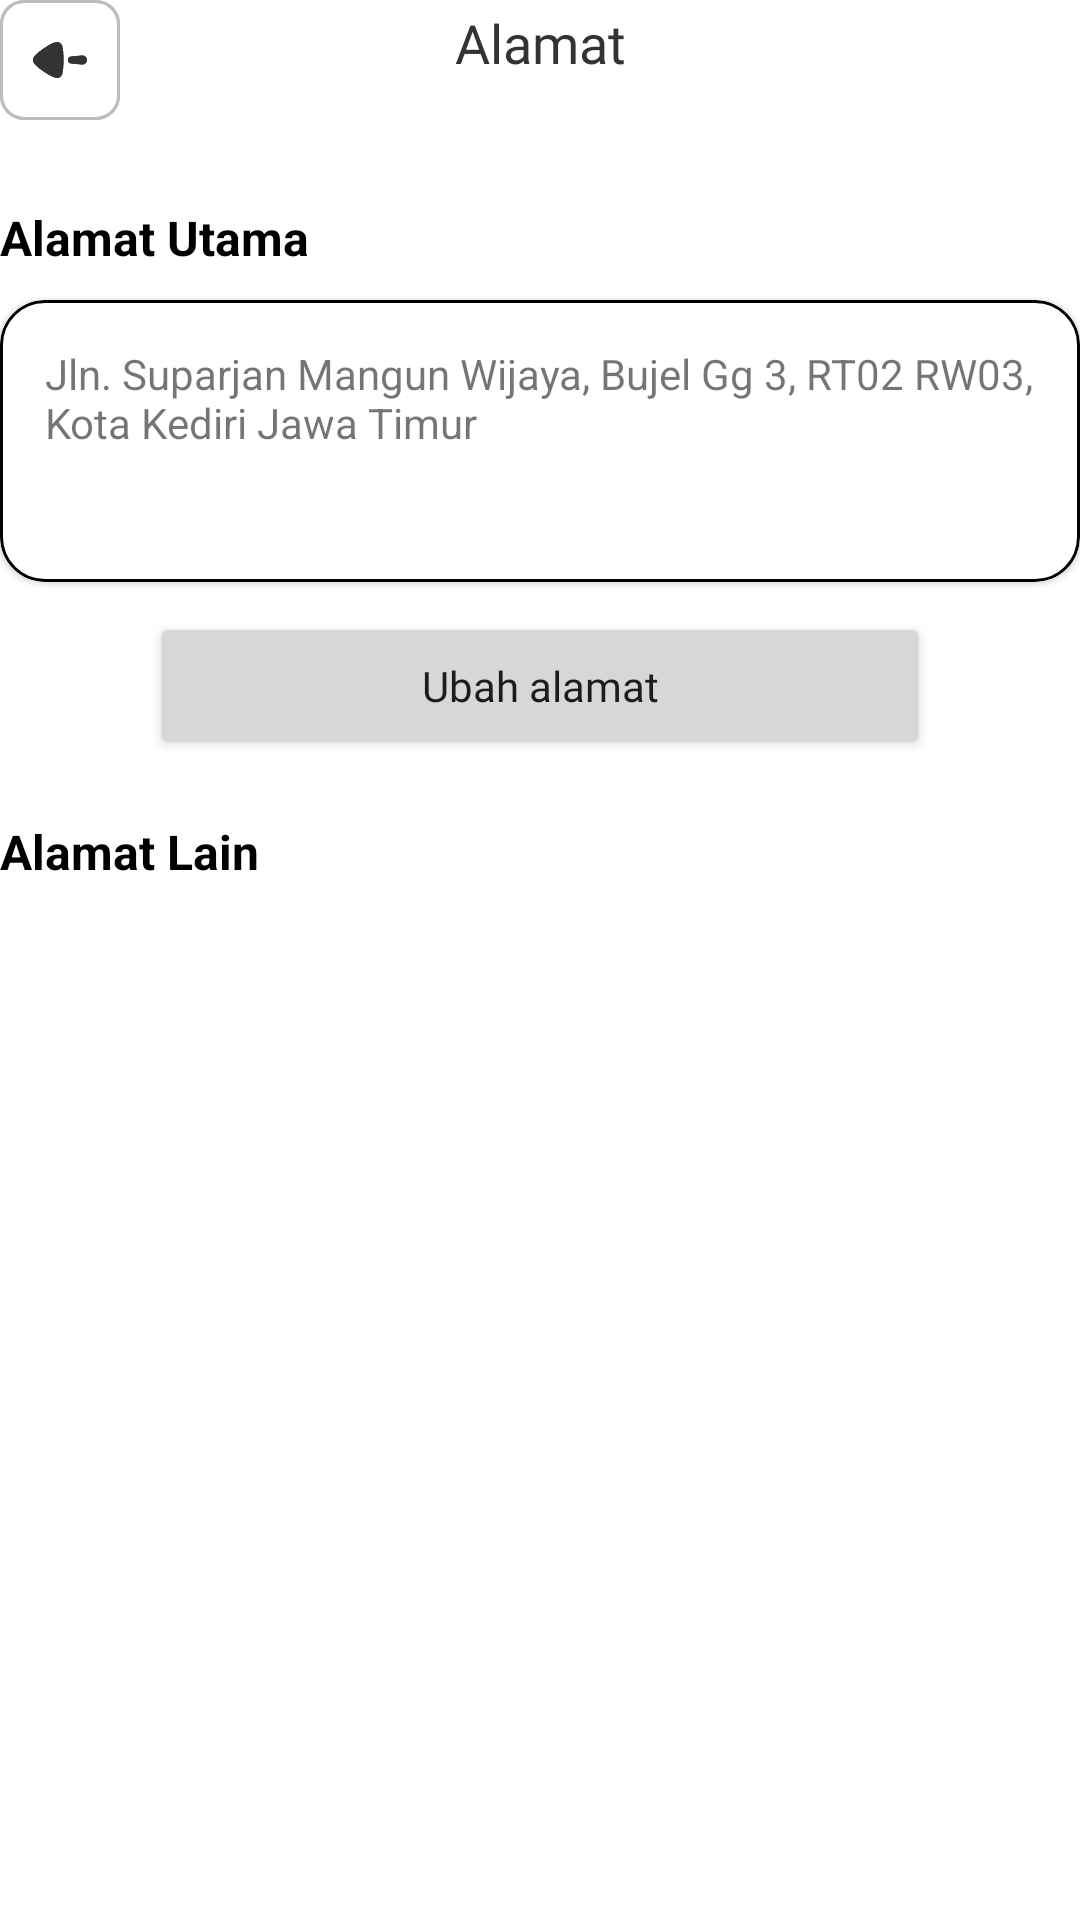

Icons on this 1080×1920 Android screen, each with the point to tap as [x,y]:
back: [60,60]
